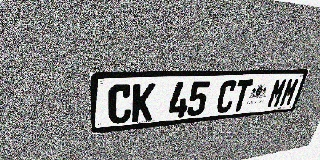4: (167, 82, 192, 119)
5: (186, 81, 210, 117)
C: (108, 84, 133, 125), (215, 80, 238, 114)
K: (131, 83, 156, 122)
M: (278, 78, 301, 107), (266, 78, 288, 108)
T: (230, 79, 254, 112)
